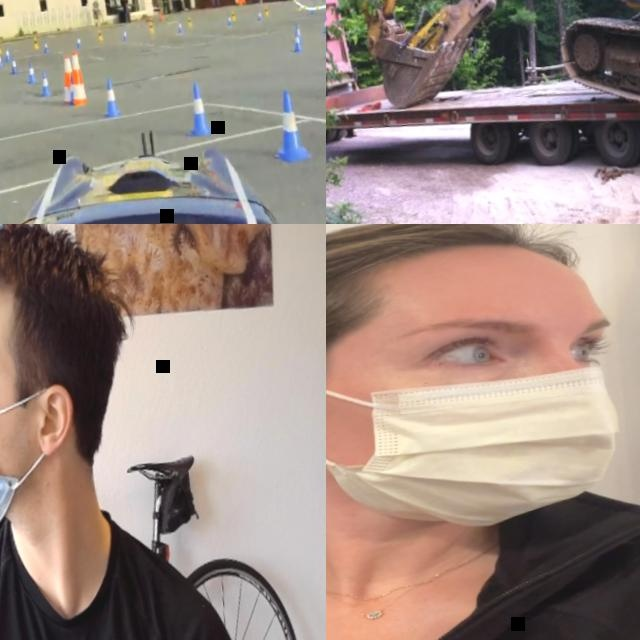Mask: (326, 321, 636, 550), (0, 376, 67, 531)
NO-Hardhat: (326, 224, 587, 343), (0, 224, 128, 353)
NO-Safety Vest: (326, 486, 640, 640), (0, 514, 215, 640)
Person: (326, 224, 640, 640), (0, 224, 285, 640)
Safety Cone: (269, 85, 313, 162), (185, 78, 215, 137), (67, 51, 89, 107), (58, 53, 76, 107), (101, 76, 122, 120), (64, 70, 79, 107), (39, 67, 52, 97), (290, 30, 303, 54), (26, 58, 38, 83), (293, 20, 304, 43), (9, 53, 19, 76), (320, 13, 326, 35), (321, 31, 326, 57), (3, 46, 11, 62), (120, 28, 128, 43), (42, 39, 50, 54), (177, 20, 184, 34), (33, 35, 40, 49), (97, 26, 104, 40), (149, 21, 155, 33), (187, 16, 193, 28), (230, 9, 236, 20), (264, 4, 269, 17), (227, 13, 232, 25), (76, 37, 81, 49), (257, 9, 262, 20), (0, 51, 3, 68), (0, 38, 2, 52)
machinery: (333, 0, 640, 224)
vehicle: (326, 0, 640, 198), (0, 82, 326, 224)
